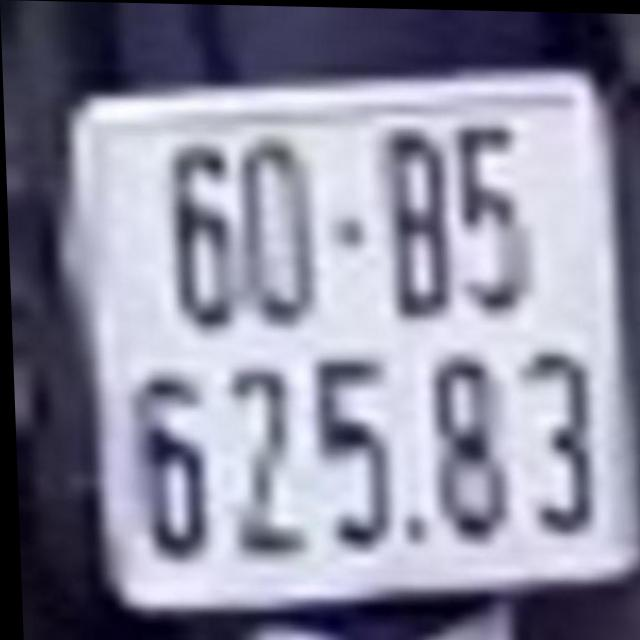0: (236, 138, 312, 323)
2: (223, 367, 307, 552)
3: (514, 347, 594, 533)
5: (312, 354, 395, 551), (453, 121, 529, 313)
6: (133, 372, 204, 556), (166, 143, 234, 328)
8: (425, 348, 510, 539)
B: (385, 121, 449, 317)
